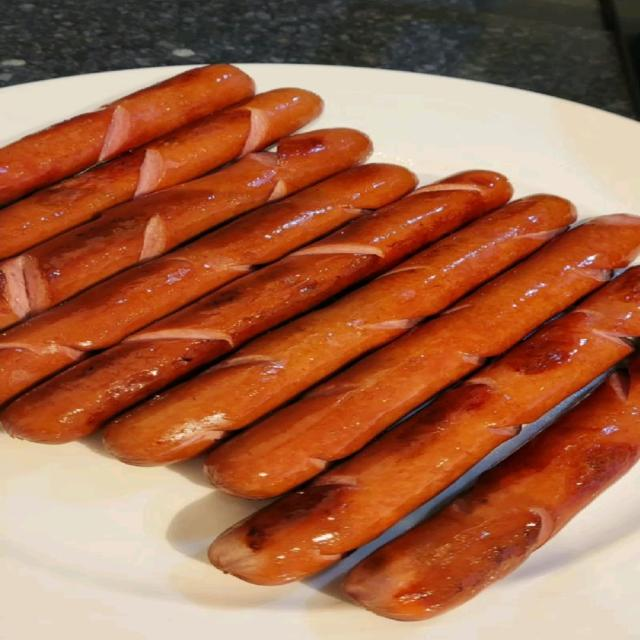sausage: (6, 171, 510, 442), (210, 268, 639, 584), (106, 196, 573, 464), (207, 215, 639, 498), (344, 360, 639, 620), (0, 194, 357, 403), (0, 129, 371, 327), (0, 89, 322, 258), (162, 164, 419, 314), (0, 65, 253, 204)
